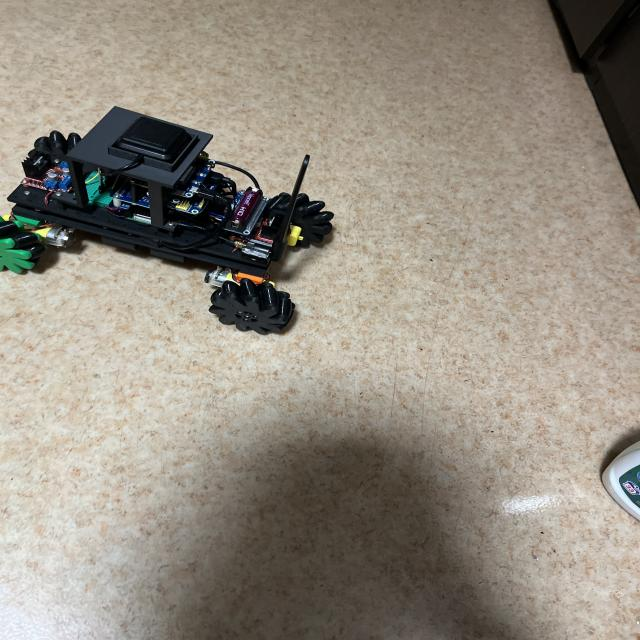robot: (0, 107, 334, 334)
